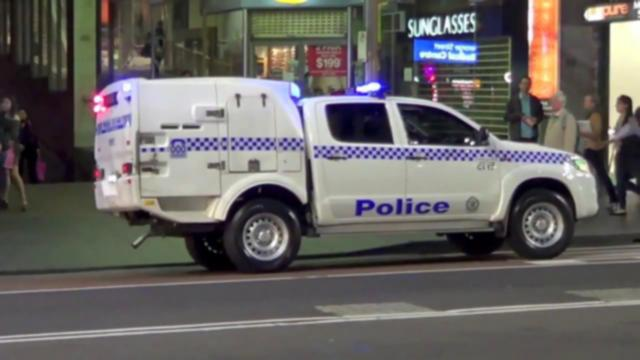police_car: (90, 77, 595, 262)
